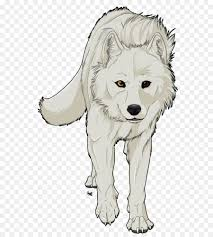Lobo: (32, 2, 185, 234)
